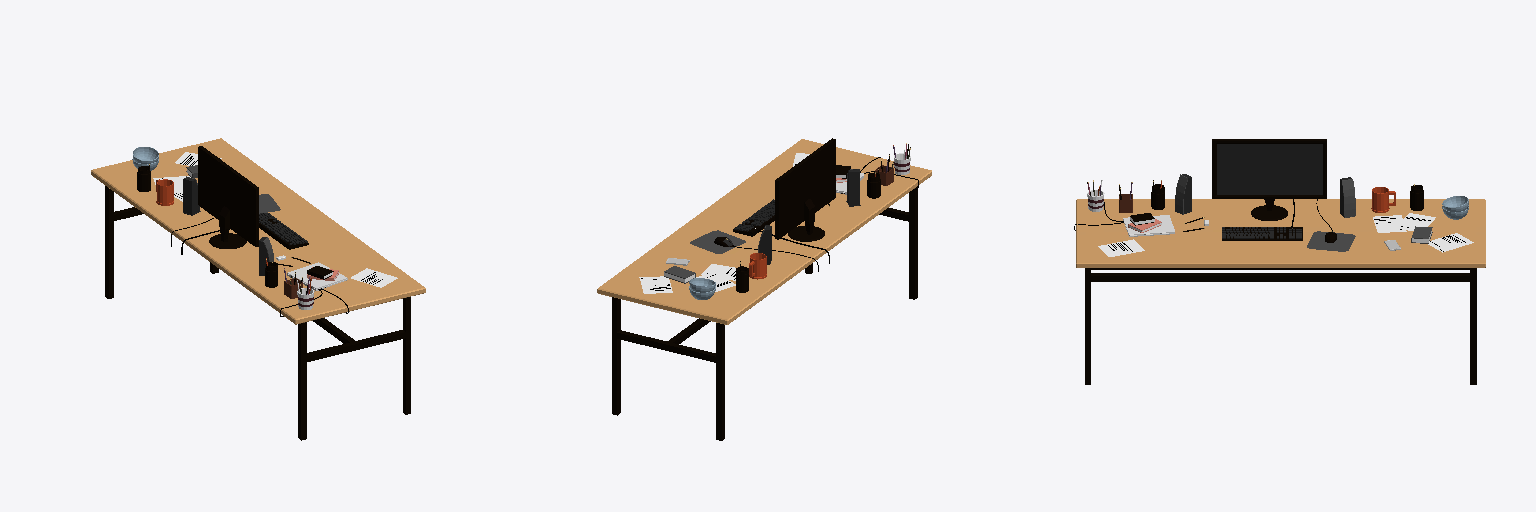
The picture shows the model from 3 angles: view 1: azimuth 30°, elevation 25°; view 2: azimuth 150°, elevation 25°; view 3: azimuth 270°, elevation 25°; orthographic projection.
Parts seen in each view (by area): view 1: Desk; view 2: Desk; view 3: Desk.
Part boxes in pixels (x1,y1,x2,y2): Desk: (91,138,425,440); Desk: (597,138,931,440); Desk: (1074,139,1485,384).
Size of the model in its own units: 231 by 324 by 602.
5 materials, 2 textured.